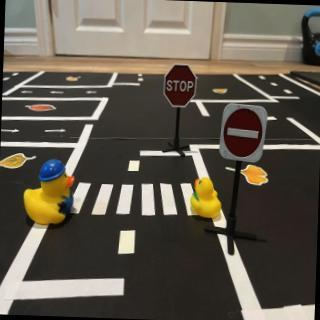duck_regular: (191, 178, 223, 221)
duck_specialty: (24, 160, 76, 229)
road_crosswalk: (72, 179, 206, 223)
road_oneway: (44, 127, 68, 137), (2, 129, 22, 136), (50, 91, 66, 98), (86, 90, 101, 96), (21, 91, 36, 96)
sign_noentry: (220, 107, 269, 165)
sign_stop: (165, 66, 199, 112)
